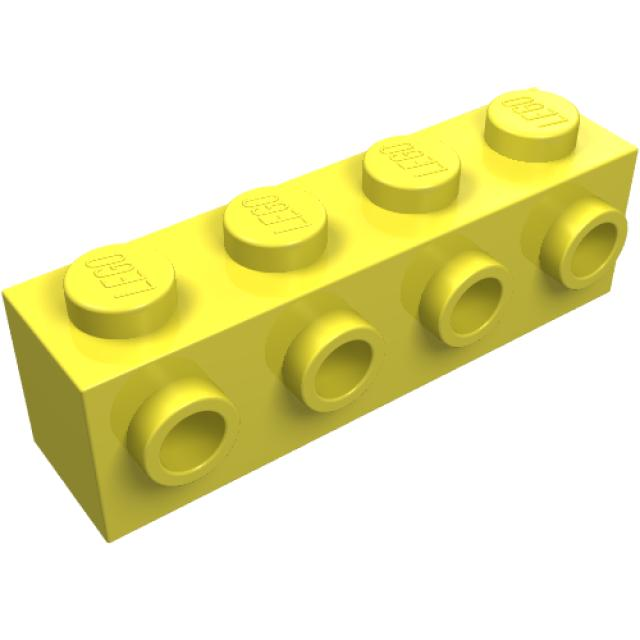Yellow_Medium: (3, 88, 640, 544)
